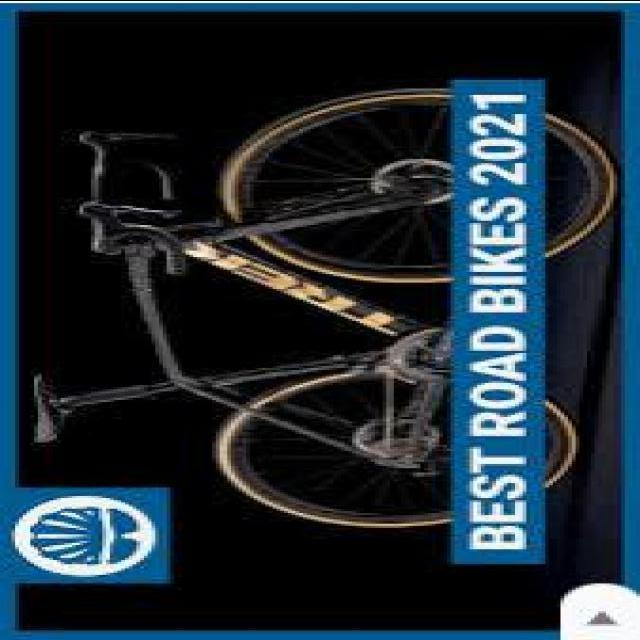bicycle: (66, 97, 475, 519)
